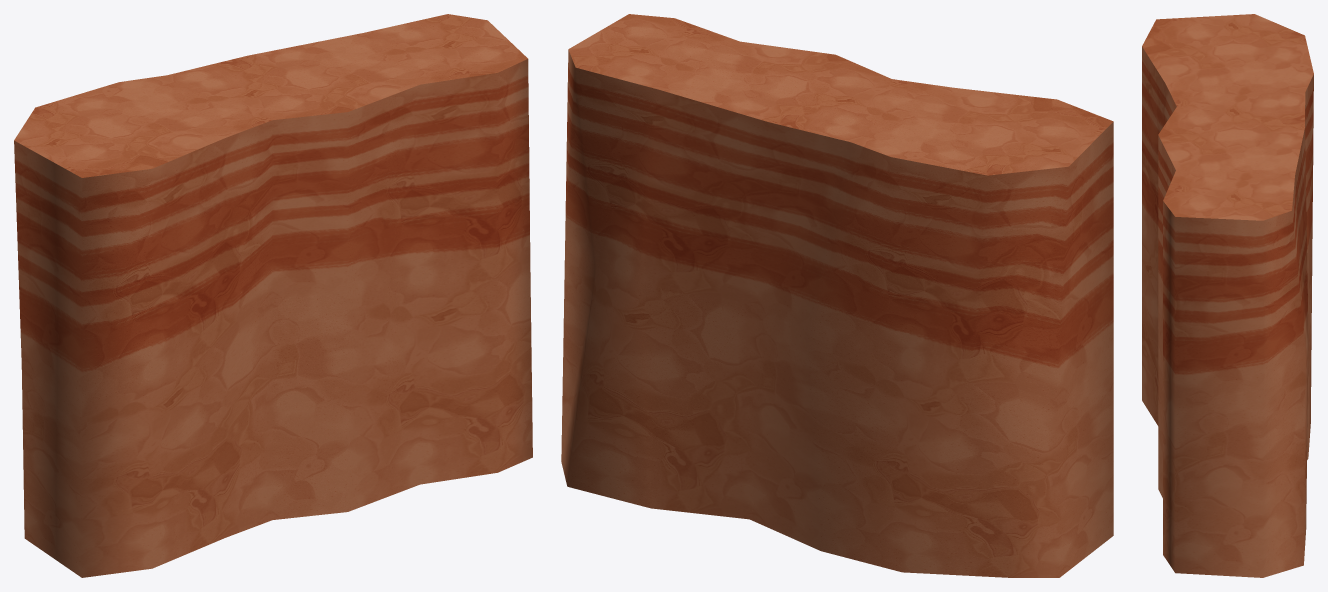
Rendered from Tallcliff06.fbx.
The picture shows the model from 3 angles, left to right: view 1: azimuth 30°, elevation 25°; view 2: azimuth 150°, elevation 25°; view 3: azimuth 270°, elevation 25°; orthographic projection. The views are drawn at different scales.
Parts seen in each view (by area): view 1: Cliff Poly; view 2: Cliff Poly; view 3: Cliff Poly.
Part boxes in pixels (x1,y1,x2,y2): Cliff Poly: [14, 14, 532, 577]; Cliff Poly: [561, 14, 1113, 577]; Cliff Poly: [1142, 14, 1313, 577].
Size of the model in its own units: 2.82 by 2.22 by 0.9776.
